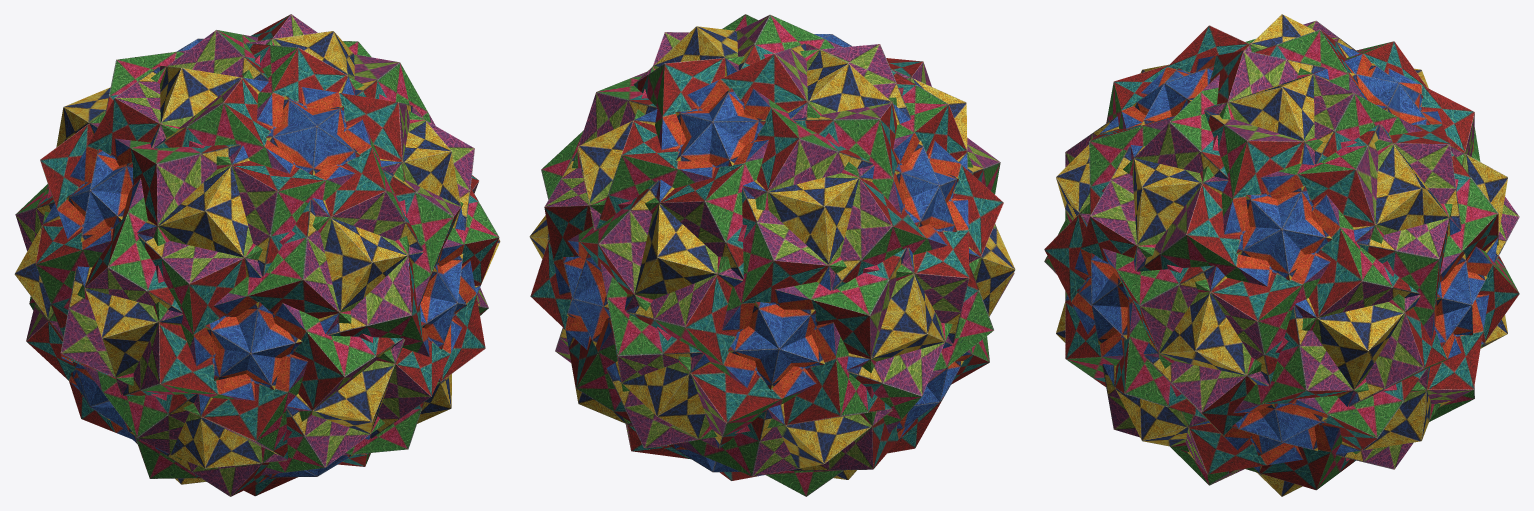
The model's file is GreatPentagonalHexecontahedron6.obj.
3 renders of one model, left to right at view 1: azimuth 30°, elevation 25°; view 2: azimuth 150°, elevation 25°; view 3: azimuth 270°, elevation 25°, orthographic.
Bounding box in the file's own units: 1.42 × 1.42 × 1.42.
1 material, 1 textured.
